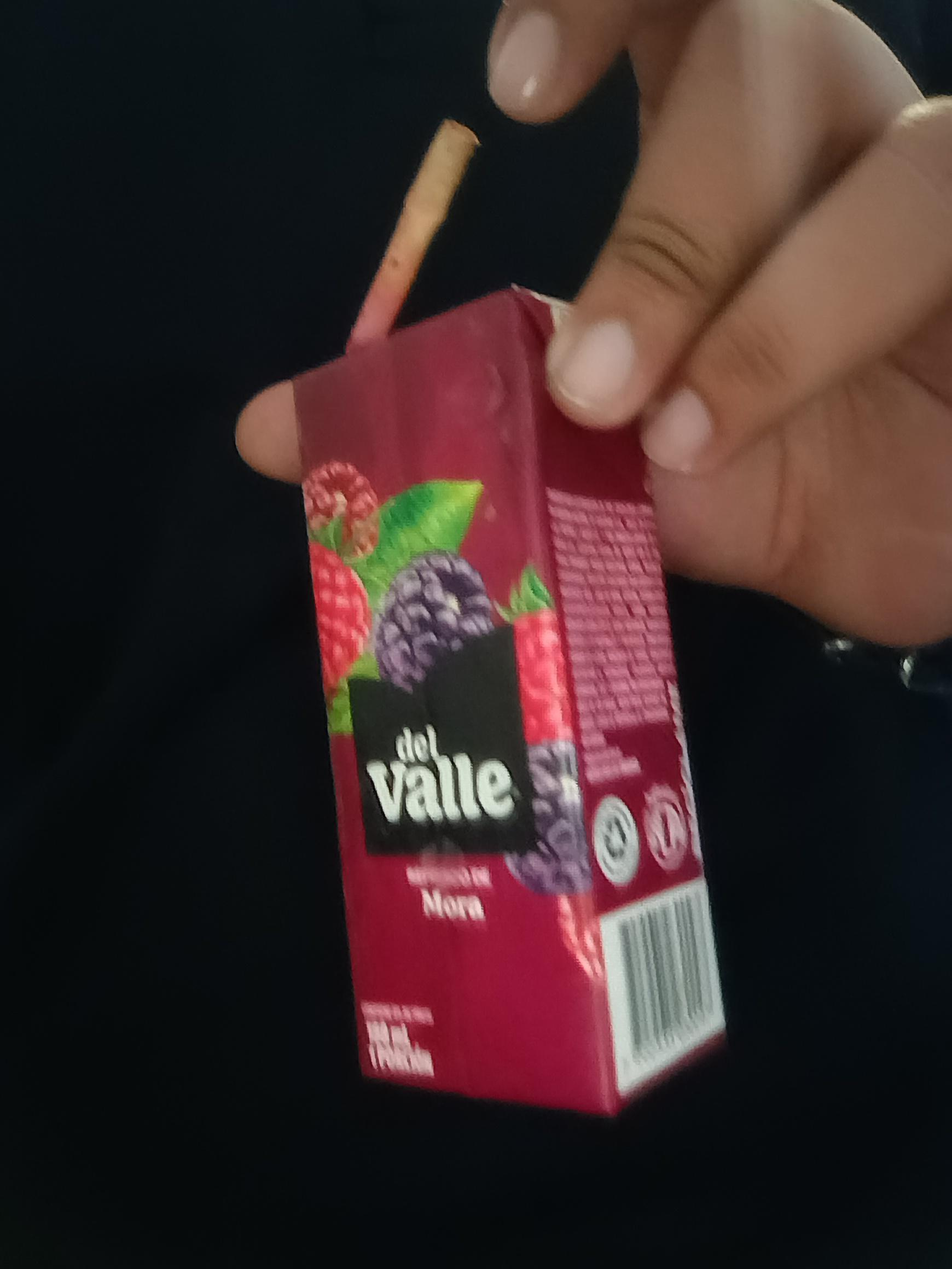Carton: (287, 288, 756, 1111)
